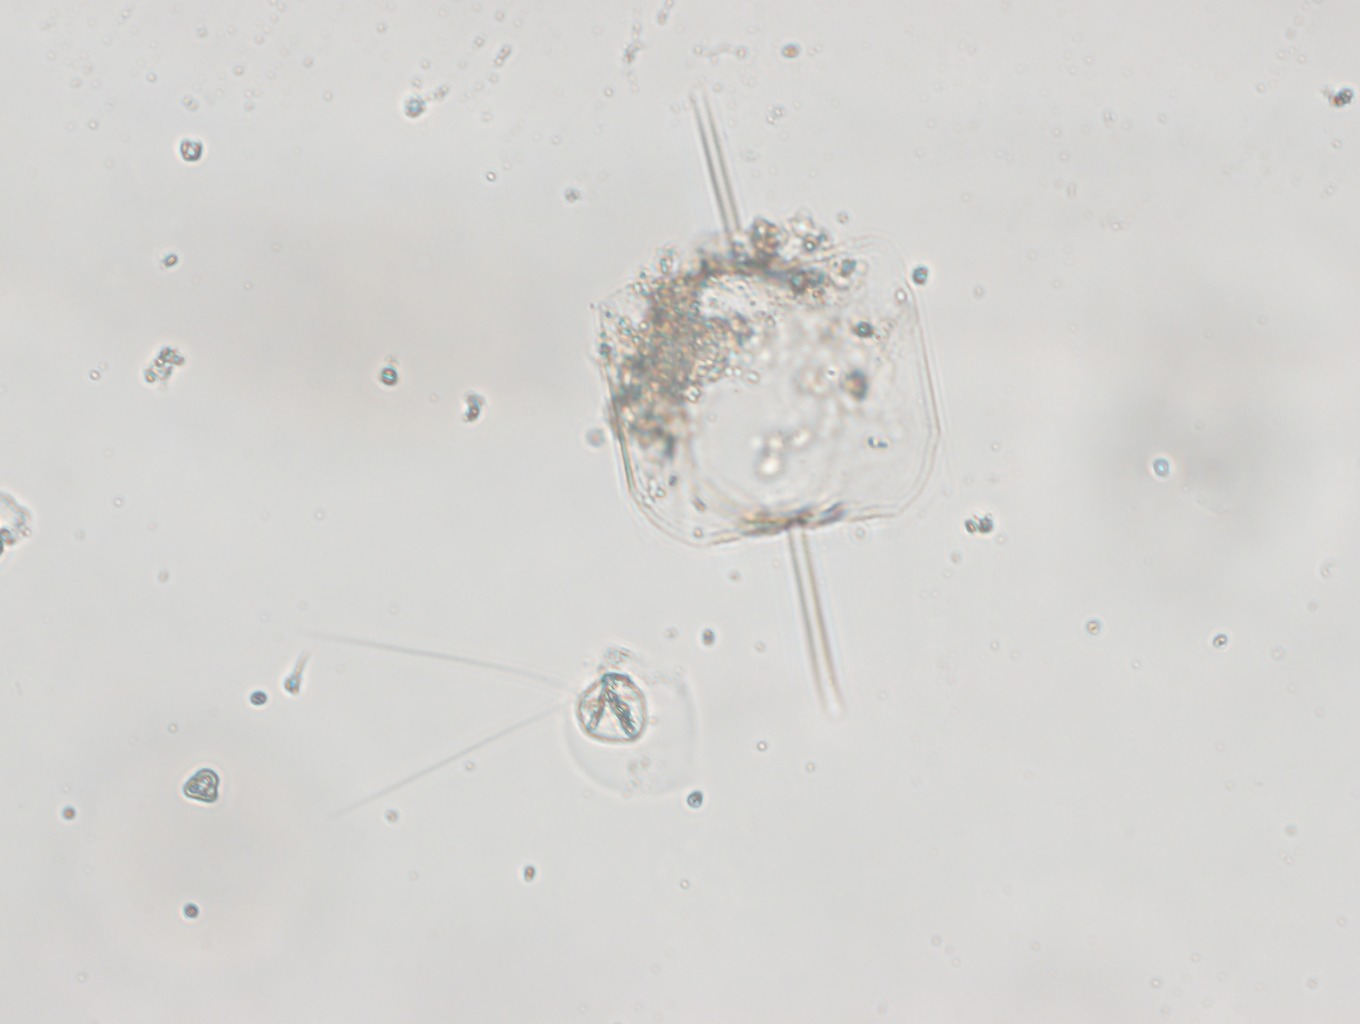ditylum: (595, 86, 943, 717)
